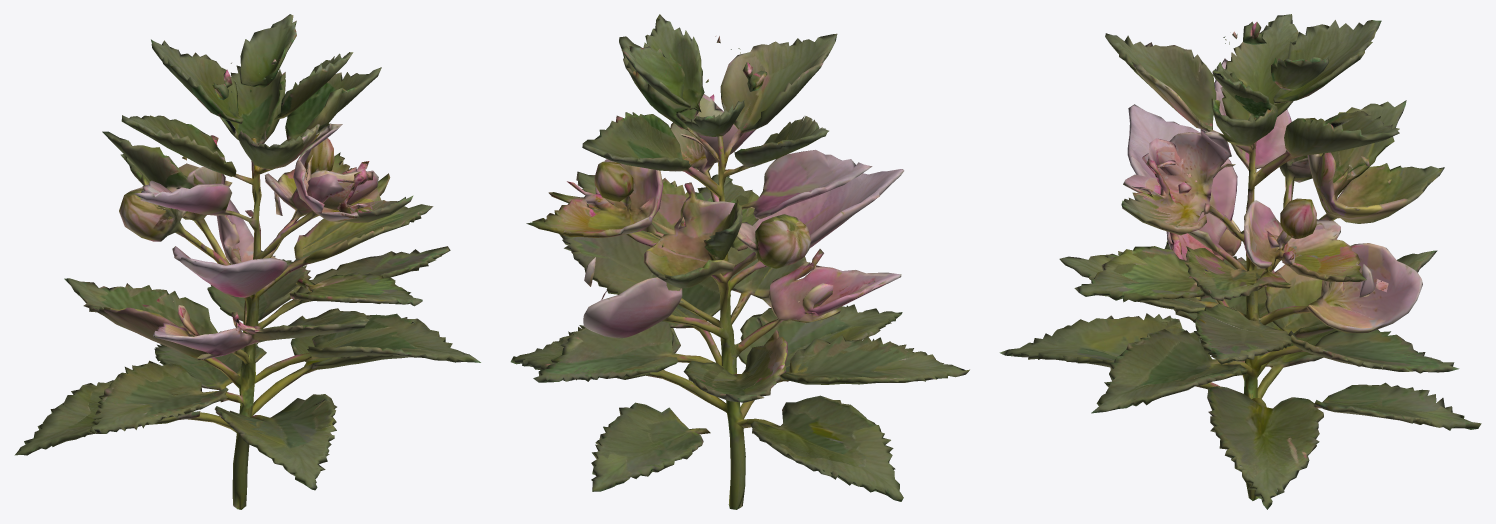
Rendered from Marsh_mallow.glb.
3 renders of one model, left to right at view 1: azimuth 30°, elevation 25°; view 2: azimuth 150°, elevation 25°; view 3: azimuth 270°, elevation 25°, orthographic. The views are drawn at different scales.
Bounding box in the file's own units: 1.88 × 1.99 × 1.79.
1 material, 1 textured.
